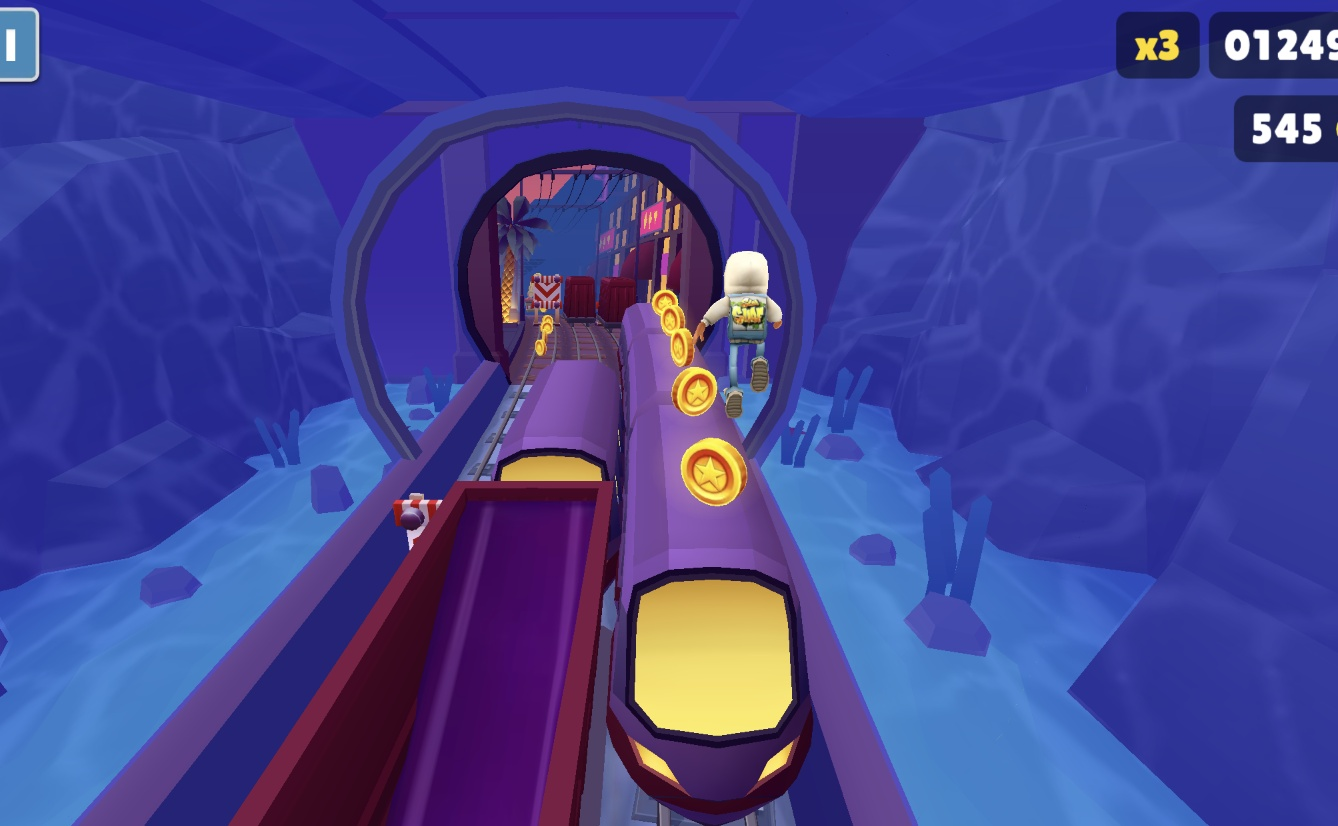overhead_barrier: (527, 270, 567, 344)
train: (352, 367, 614, 826), (617, 275, 831, 821), (569, 279, 614, 324)
